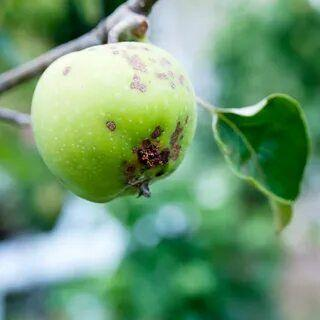Apple: (31, 41, 196, 202)
